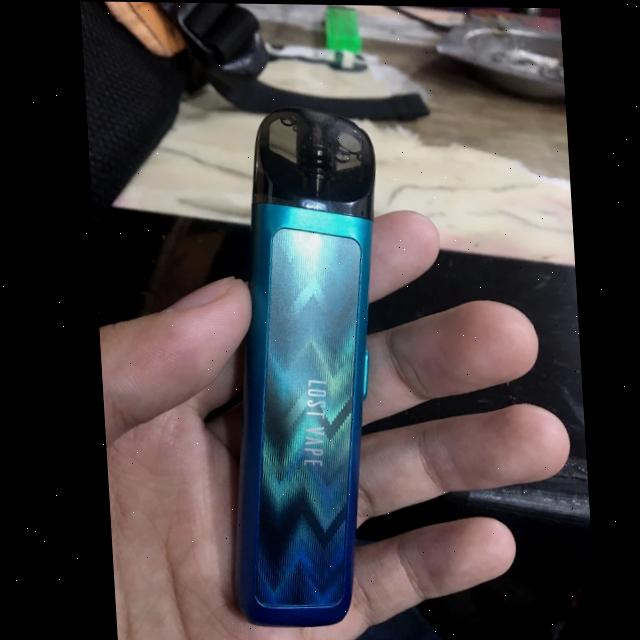vape: (227, 106, 373, 629)
